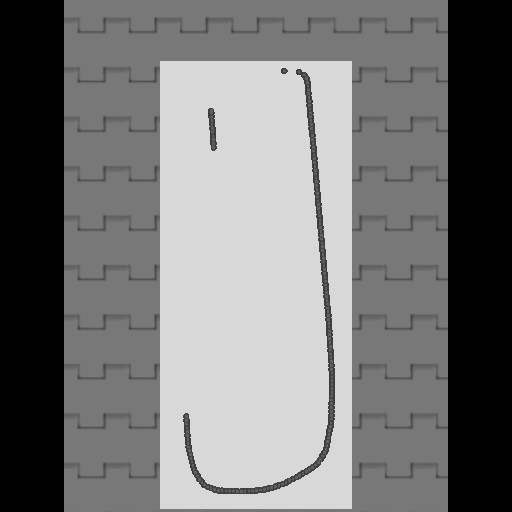Defect: (179, 149, 222, 414)
